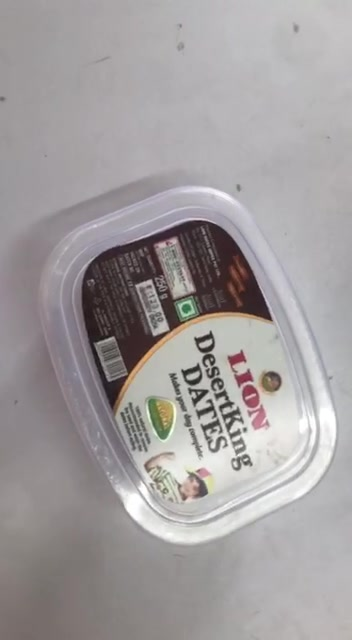Lion dates: (42, 186, 338, 544)
